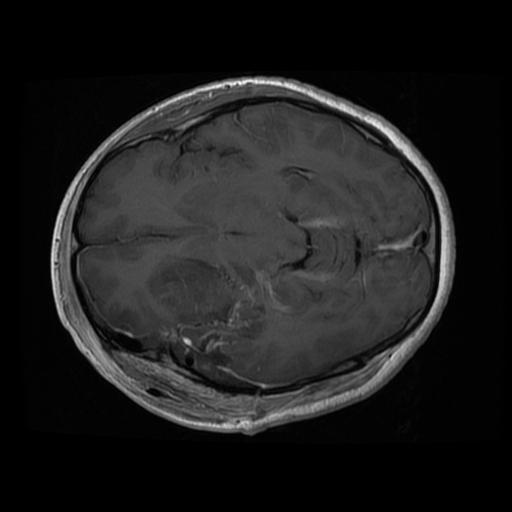glioma: (148, 253, 264, 386)
